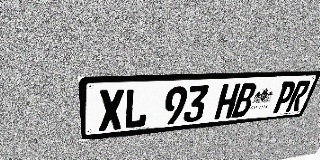3: (183, 85, 210, 123)
9: (162, 86, 189, 125)
B: (231, 83, 258, 118)
H: (214, 84, 241, 120)
L: (123, 88, 149, 129)
P: (271, 81, 298, 114)
R: (285, 80, 312, 112)
X: (98, 89, 124, 132)
